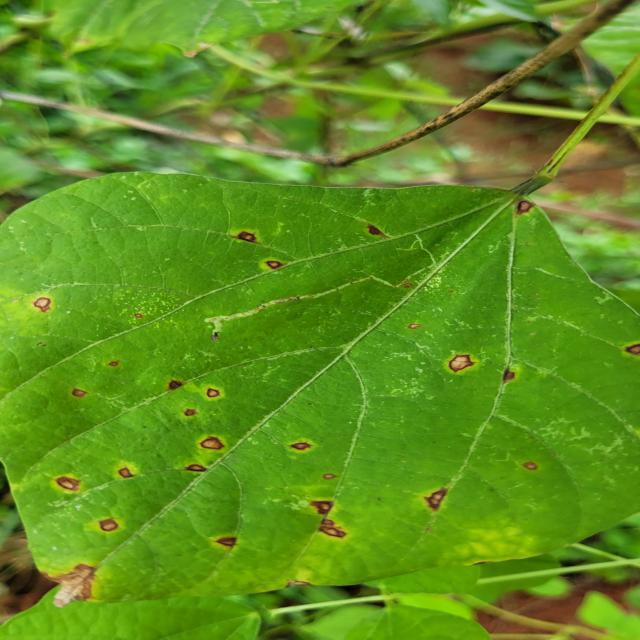Dolicos bean_cercospora leaf spot: (0, 160, 640, 608)
